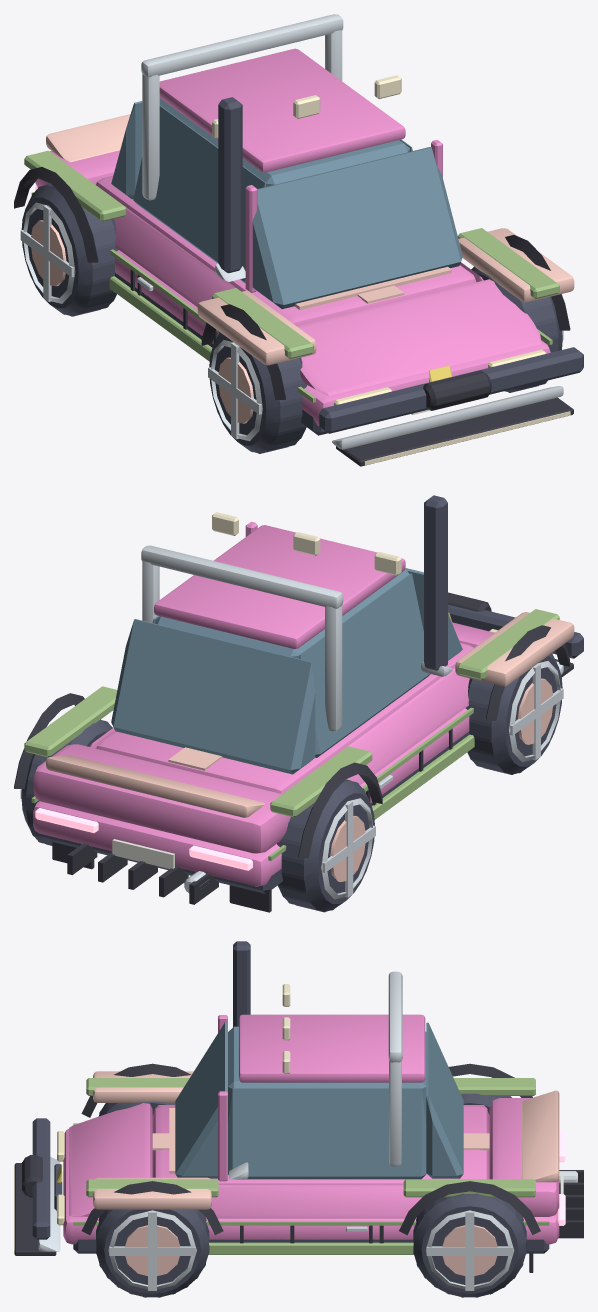
The model's file is prairie_pulse.fbx.
The picture shows the model from 3 angles, top to bottom: view 1: azimuth 30°, elevation 25°; view 2: azimuth 150°, elevation 25°; view 3: azimuth 270°, elevation 25°; orthographic projection. The views are drawn at different scales.
Parts seen in each view (by area): view 1: Body, Glass, Trim2, Trim, Accent2, Accent3, Accent, Wheel_RR, Wheel_FR, Metal, Metal2, Light (+2 smaller); view 2: Body, Glass, Accent, Trim, Accent2, Accent3, Trim2, Wheel_RR, Metal, Wheel_FR, Metal2, Light (+4 smaller); view 3: Body, Glass, Accent, Trim, Accent3, Wheel_RL, Metal, Trim2, Wheel_FL, Accent2, Metal2, Light4 (+3 smaller).
Part boxes in pixels (x1=…): Body: x1=35, y1=48, x2=550, y2=426; Glass: x1=111, y1=98, x2=462, y2=309; Trim2: x1=115, y1=97, x2=583, y2=435; Trim: x1=14, y1=167, x2=573, y2=466; Accent2: x1=141, y1=14, x2=563, y2=449; Accent3: x1=46, y1=114, x2=574, y2=365; Accent: x1=24, y1=150, x2=559, y2=402; Wheel_RR: x1=21, y1=184, x2=118, y2=316; Wheel_FR: x1=209, y1=332, x2=307, y2=453; Metal: x1=20, y1=202, x2=563, y2=441; Metal2: x1=31, y1=220, x2=253, y2=423; Light: x1=212, y1=75, x2=570, y2=465; Body: x1=33, y1=521, x2=494, y2=886; Glass: x1=111, y1=568, x2=462, y2=774; Accent: x1=24, y1=609, x2=559, y2=860; Trim: x1=14, y1=592, x2=573, y2=912; Accent2: x1=141, y1=545, x2=563, y2=731; Accent3: x1=46, y1=612, x2=574, y2=817; Trim2: x1=38, y1=495, x2=583, y2=893; Wheel_RR: x1=277, y1=779, x2=374, y2=912; Metal: x1=20, y1=661, x2=563, y2=899; Wheel_FR: x1=465, y1=653, x2=562, y2=774; Metal2: x1=330, y1=678, x2=552, y2=881; Light: x1=212, y1=512, x2=401, y2=575; Body: x1=63, y1=1014, x2=559, y2=1244; Glass: x1=175, y1=1022, x2=463, y2=1179; Accent: x1=73, y1=1078, x2=549, y2=1254; Trim: x1=14, y1=1063, x2=583, y2=1272; Accent3: x1=93, y1=1071, x2=559, y2=1209; Wheel_RL: x1=413, y1=1193, x2=526, y2=1297; Metal: x1=108, y1=1171, x2=577, y2=1290; Trim2: x1=32, y1=941, x2=549, y2=1253; Wheel_FL: x1=96, y1=1209, x2=209, y2=1297; Accent2: x1=38, y1=971, x2=402, y2=1251; Metal2: x1=125, y1=1225, x2=497, y2=1275; Light4: x1=152, y1=1133, x2=489, y2=1150.
Bounding box in the file's own units: 3.06 × 2.83 × 5.75.
